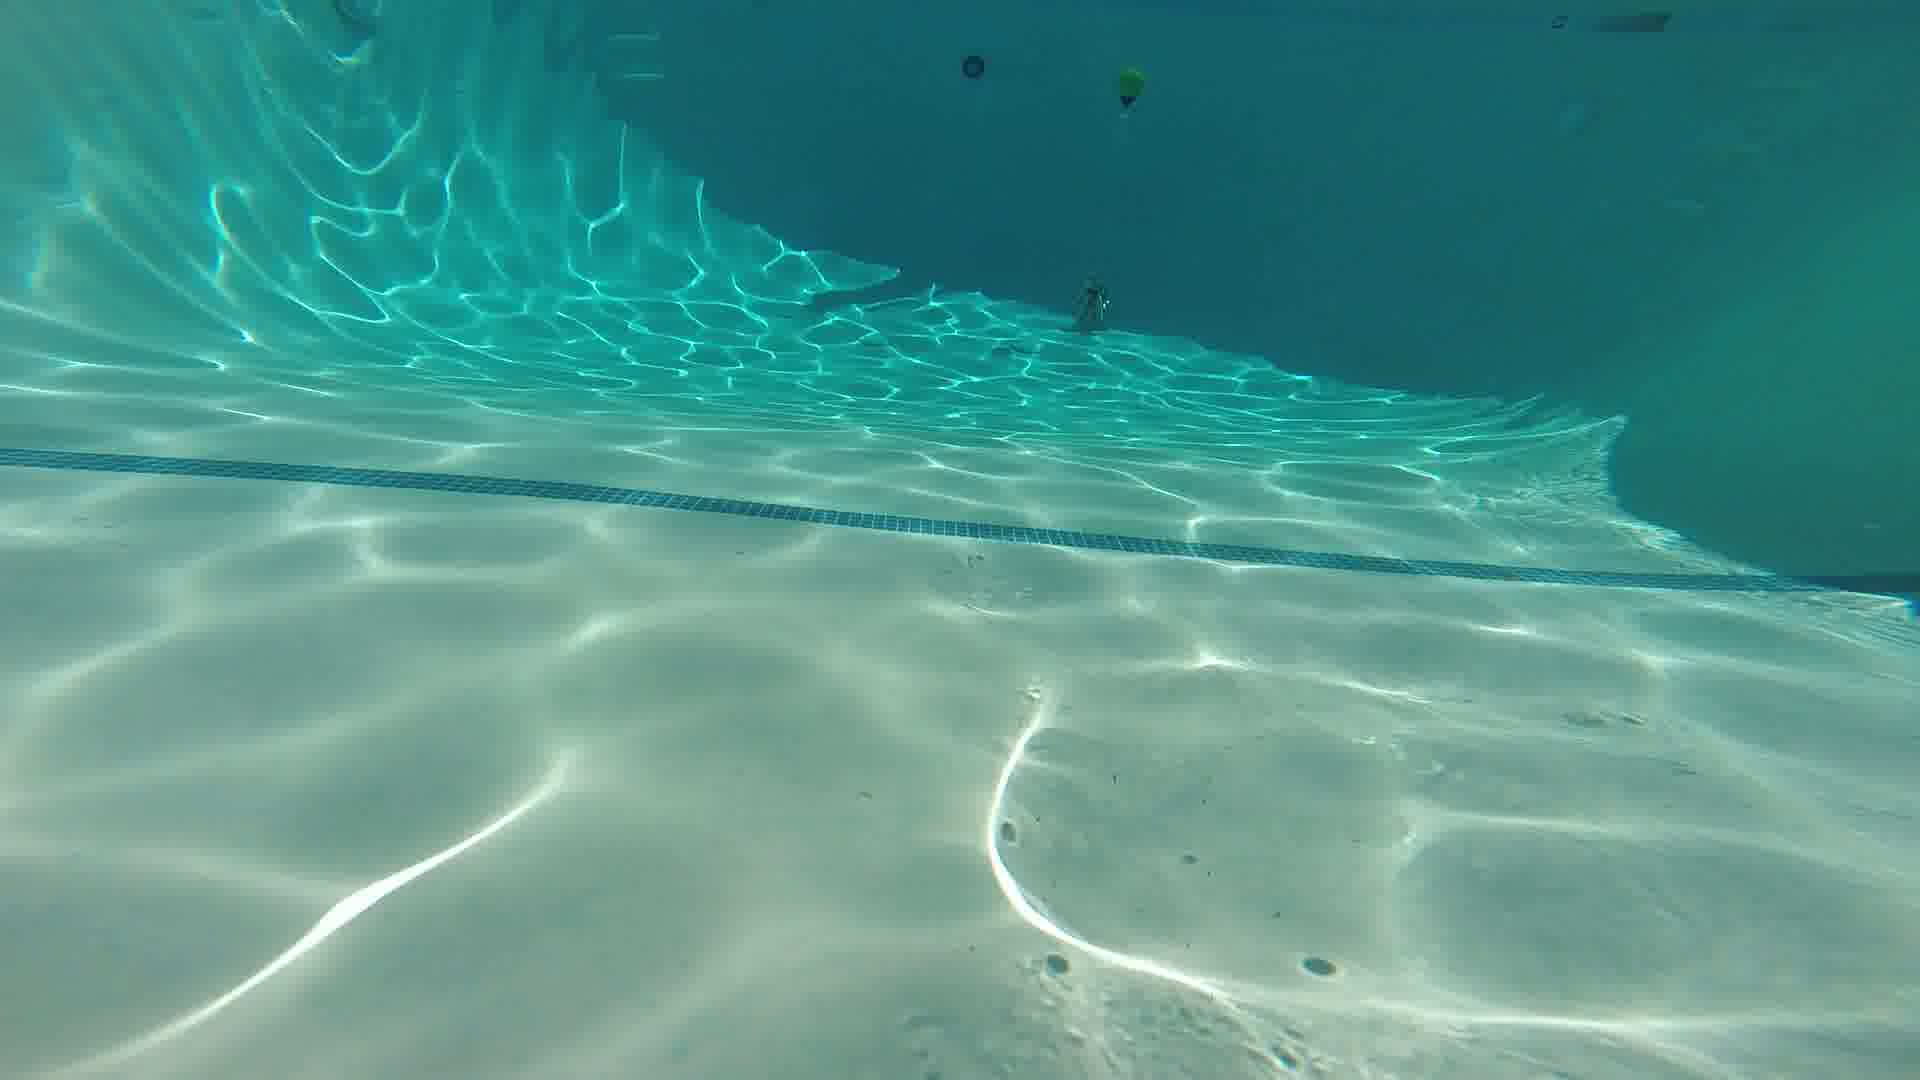yellow_buoy: (1112, 63, 1149, 123)
